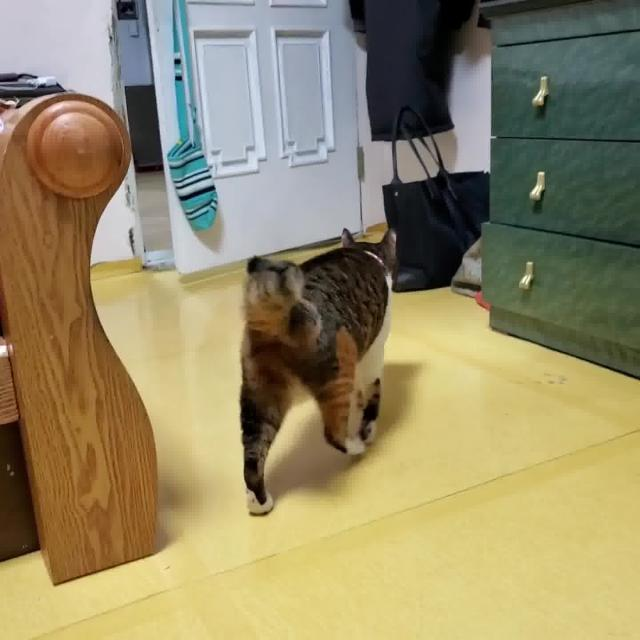cat: (238, 222, 400, 516)
